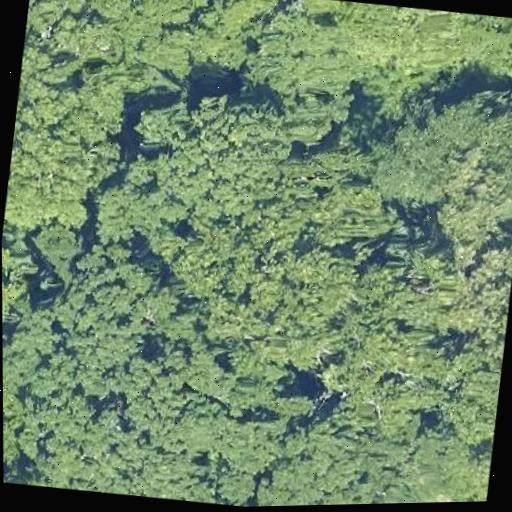tree-top: (148, 84, 296, 225), (364, 90, 512, 219), (327, 321, 446, 447), (356, 236, 477, 343), (247, 236, 360, 350), (112, 0, 246, 95), (342, 0, 466, 101), (35, 395, 154, 499), (242, 1, 357, 108), (259, 416, 388, 506), (166, 207, 276, 307), (56, 237, 162, 339), (2, 130, 99, 240), (166, 329, 289, 415), (87, 154, 177, 255), (197, 403, 292, 498), (434, 333, 506, 450), (111, 348, 197, 443), (13, 37, 79, 141), (409, 427, 494, 503), (128, 86, 197, 158), (460, 13, 512, 101), (24, 217, 87, 274), (2, 257, 35, 339), (3, 353, 30, 450), (27, 0, 99, 20), (281, 0, 361, 17)
